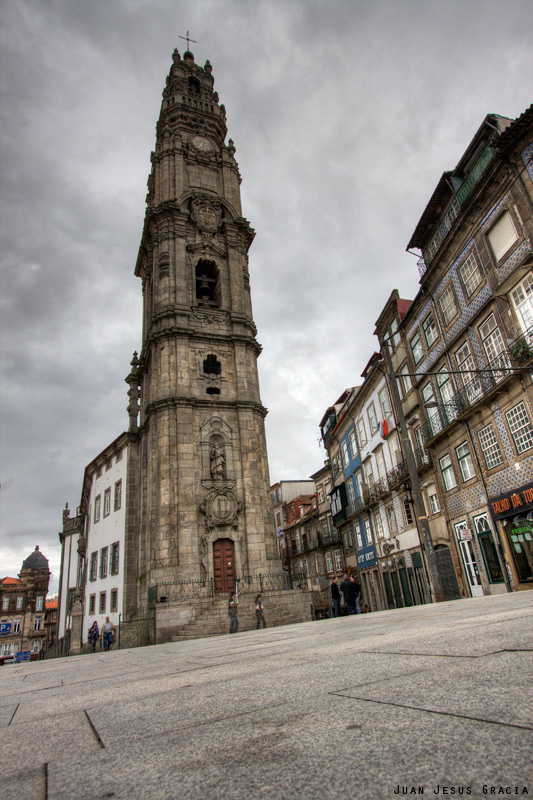clerigos: (125, 29, 286, 619)
